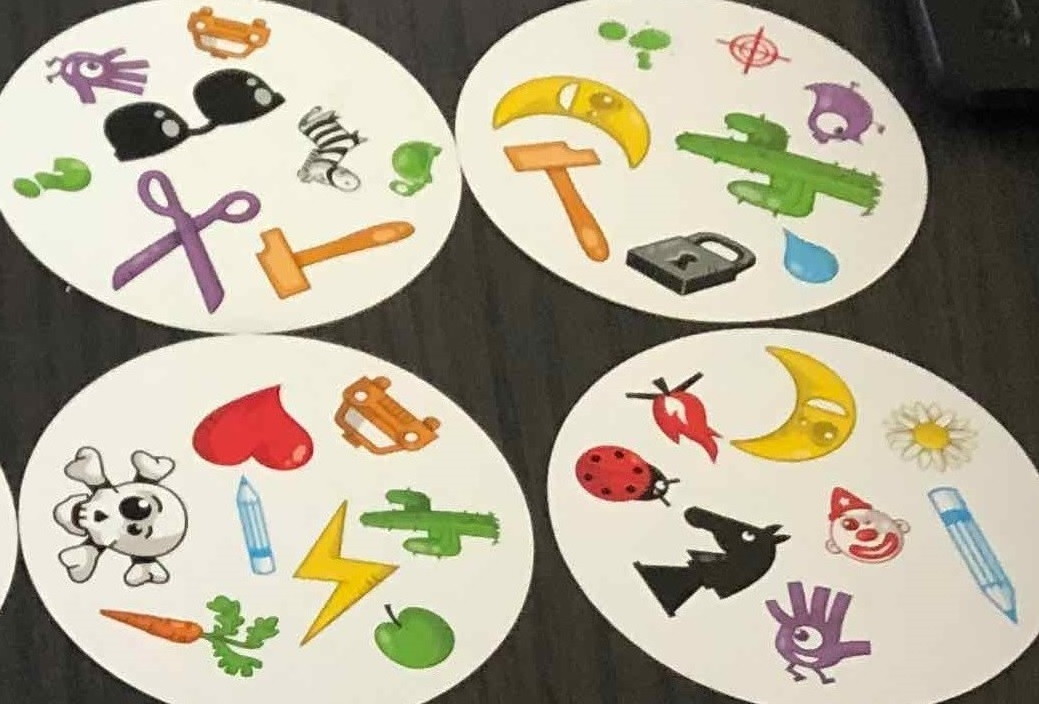cactus: (675, 118, 891, 219), (352, 488, 508, 554)
cadenas: (626, 229, 762, 300)
carotte: (96, 595, 286, 674)
cheval: (629, 503, 794, 624)
cible: (714, 24, 794, 76)
ciseau: (105, 171, 265, 308)
clown: (812, 482, 915, 568)
coccinelle: (570, 445, 681, 515)
coeur: (188, 378, 318, 474)
crayon: (924, 484, 1031, 623), (227, 473, 284, 580)
dooble: (762, 577, 878, 689), (42, 41, 157, 108)
eclair: (286, 502, 397, 648)
feu: (622, 365, 732, 455)
fleur: (878, 399, 985, 475)
goutte: (776, 225, 843, 288)
lune: (480, 71, 655, 174), (494, 124, 631, 254), (733, 340, 860, 463)
lunette: (86, 67, 290, 164)
marteau: (249, 213, 425, 304)
oiseau: (796, 72, 889, 145)
point_interrogation: (9, 153, 94, 207)
pomme: (370, 598, 459, 672)
tache: (582, 13, 675, 70)
tete_mort: (41, 438, 198, 592)
tortue: (379, 134, 438, 200)
voiture: (332, 374, 444, 454), (181, 4, 277, 62)
zebre: (289, 106, 378, 194)
